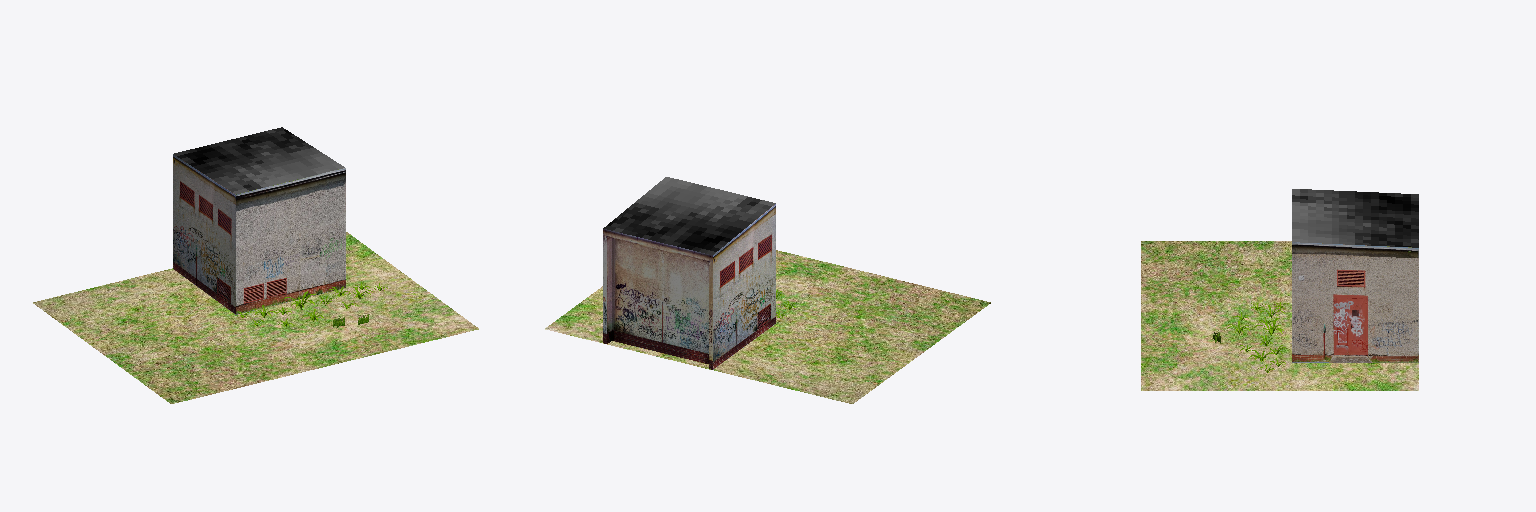
The picture shows the model from 3 angles: view 1: azimuth 30°, elevation 25°; view 2: azimuth 150°, elevation 25°; view 3: azimuth 270°, elevation 25°; orthographic projection.
Parts seen in each view (by area): view 1: Plane, Cube; view 2: Cube, Plane; view 3: Plane, Cube.
Boxes of the visible parts, x1,y1,x2,y2 form: Plane: [33, 232, 478, 403]; Cube: [173, 127, 345, 314]; Cube: [603, 177, 775, 369]; Plane: [545, 250, 990, 403]; Plane: [1141, 241, 1418, 390]; Cube: [1292, 189, 1418, 362].
Size of the model in its own units: 5.63 by 2.11 by 4.39.
8 materials, 8 textured.